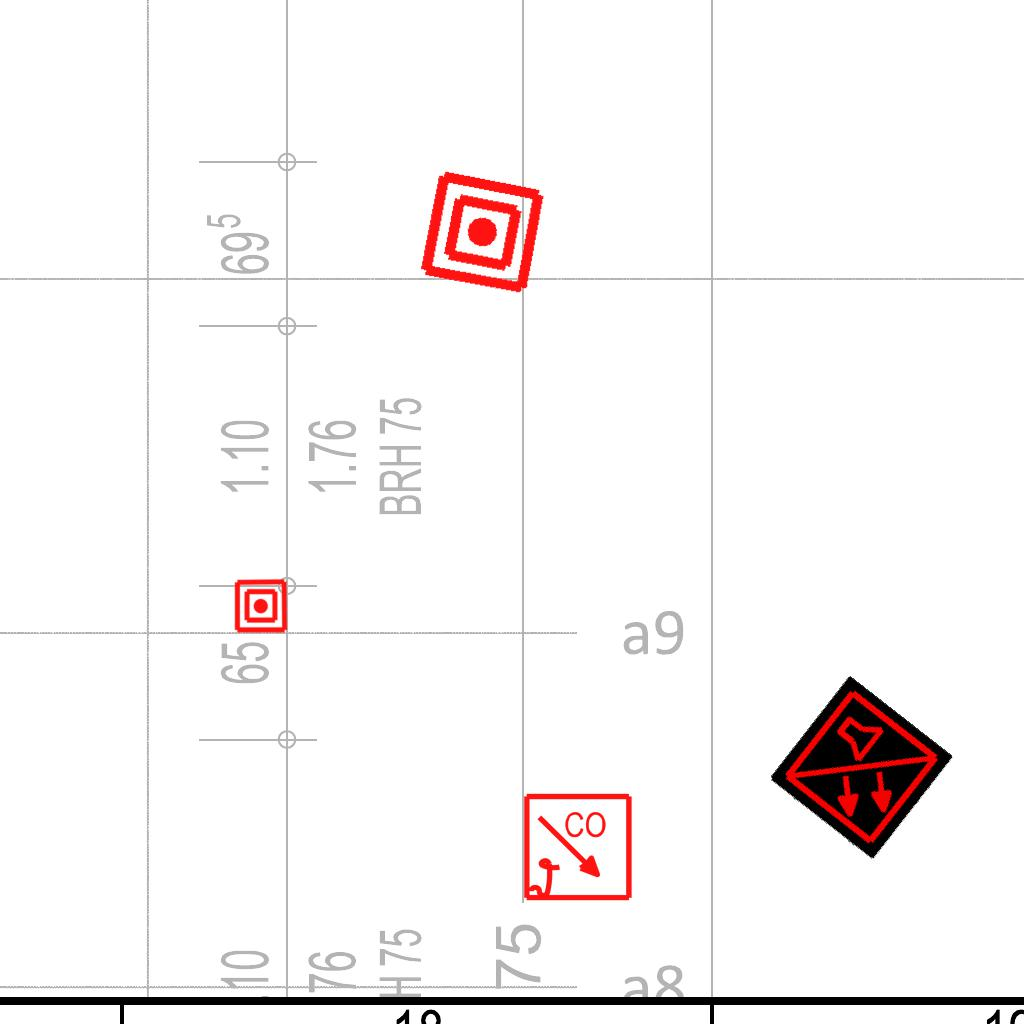NAM-Nichtautomatischer_Melder: (416, 166, 549, 299), (233, 578, 289, 634)
OKW_Multisensormelder_(Kombination_optischer_Rauch-Kahlenmonoxid_Waerme-Melder): (768, 675, 954, 861)
ROA_Rauchmelder_optisch_mit_Signalgeber_(Sockelsirene): (522, 792, 635, 905)
